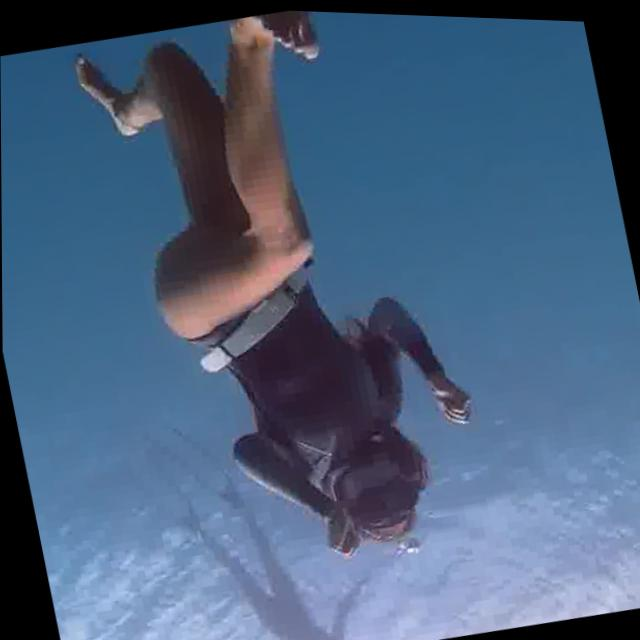human: (64, 2, 511, 606), (170, 451, 393, 640)
